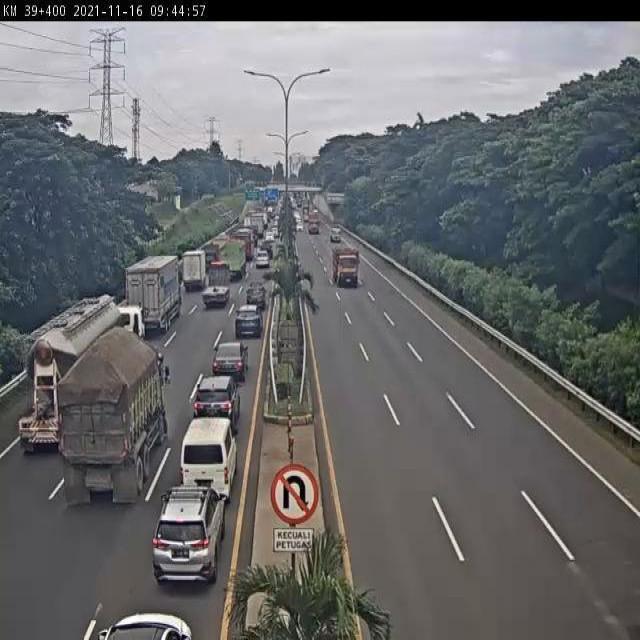car: (151, 488, 224, 581), (179, 420, 237, 497), (194, 375, 240, 433), (210, 345, 247, 383), (233, 308, 260, 341), (246, 283, 264, 308)
truck: (52, 331, 167, 516), (17, 299, 152, 452), (123, 251, 182, 332), (202, 265, 231, 312), (216, 237, 246, 280), (332, 244, 360, 287), (180, 247, 205, 288)
